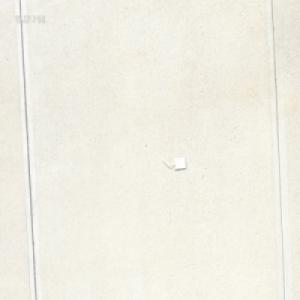LuggageTag: (161, 154, 186, 170)
